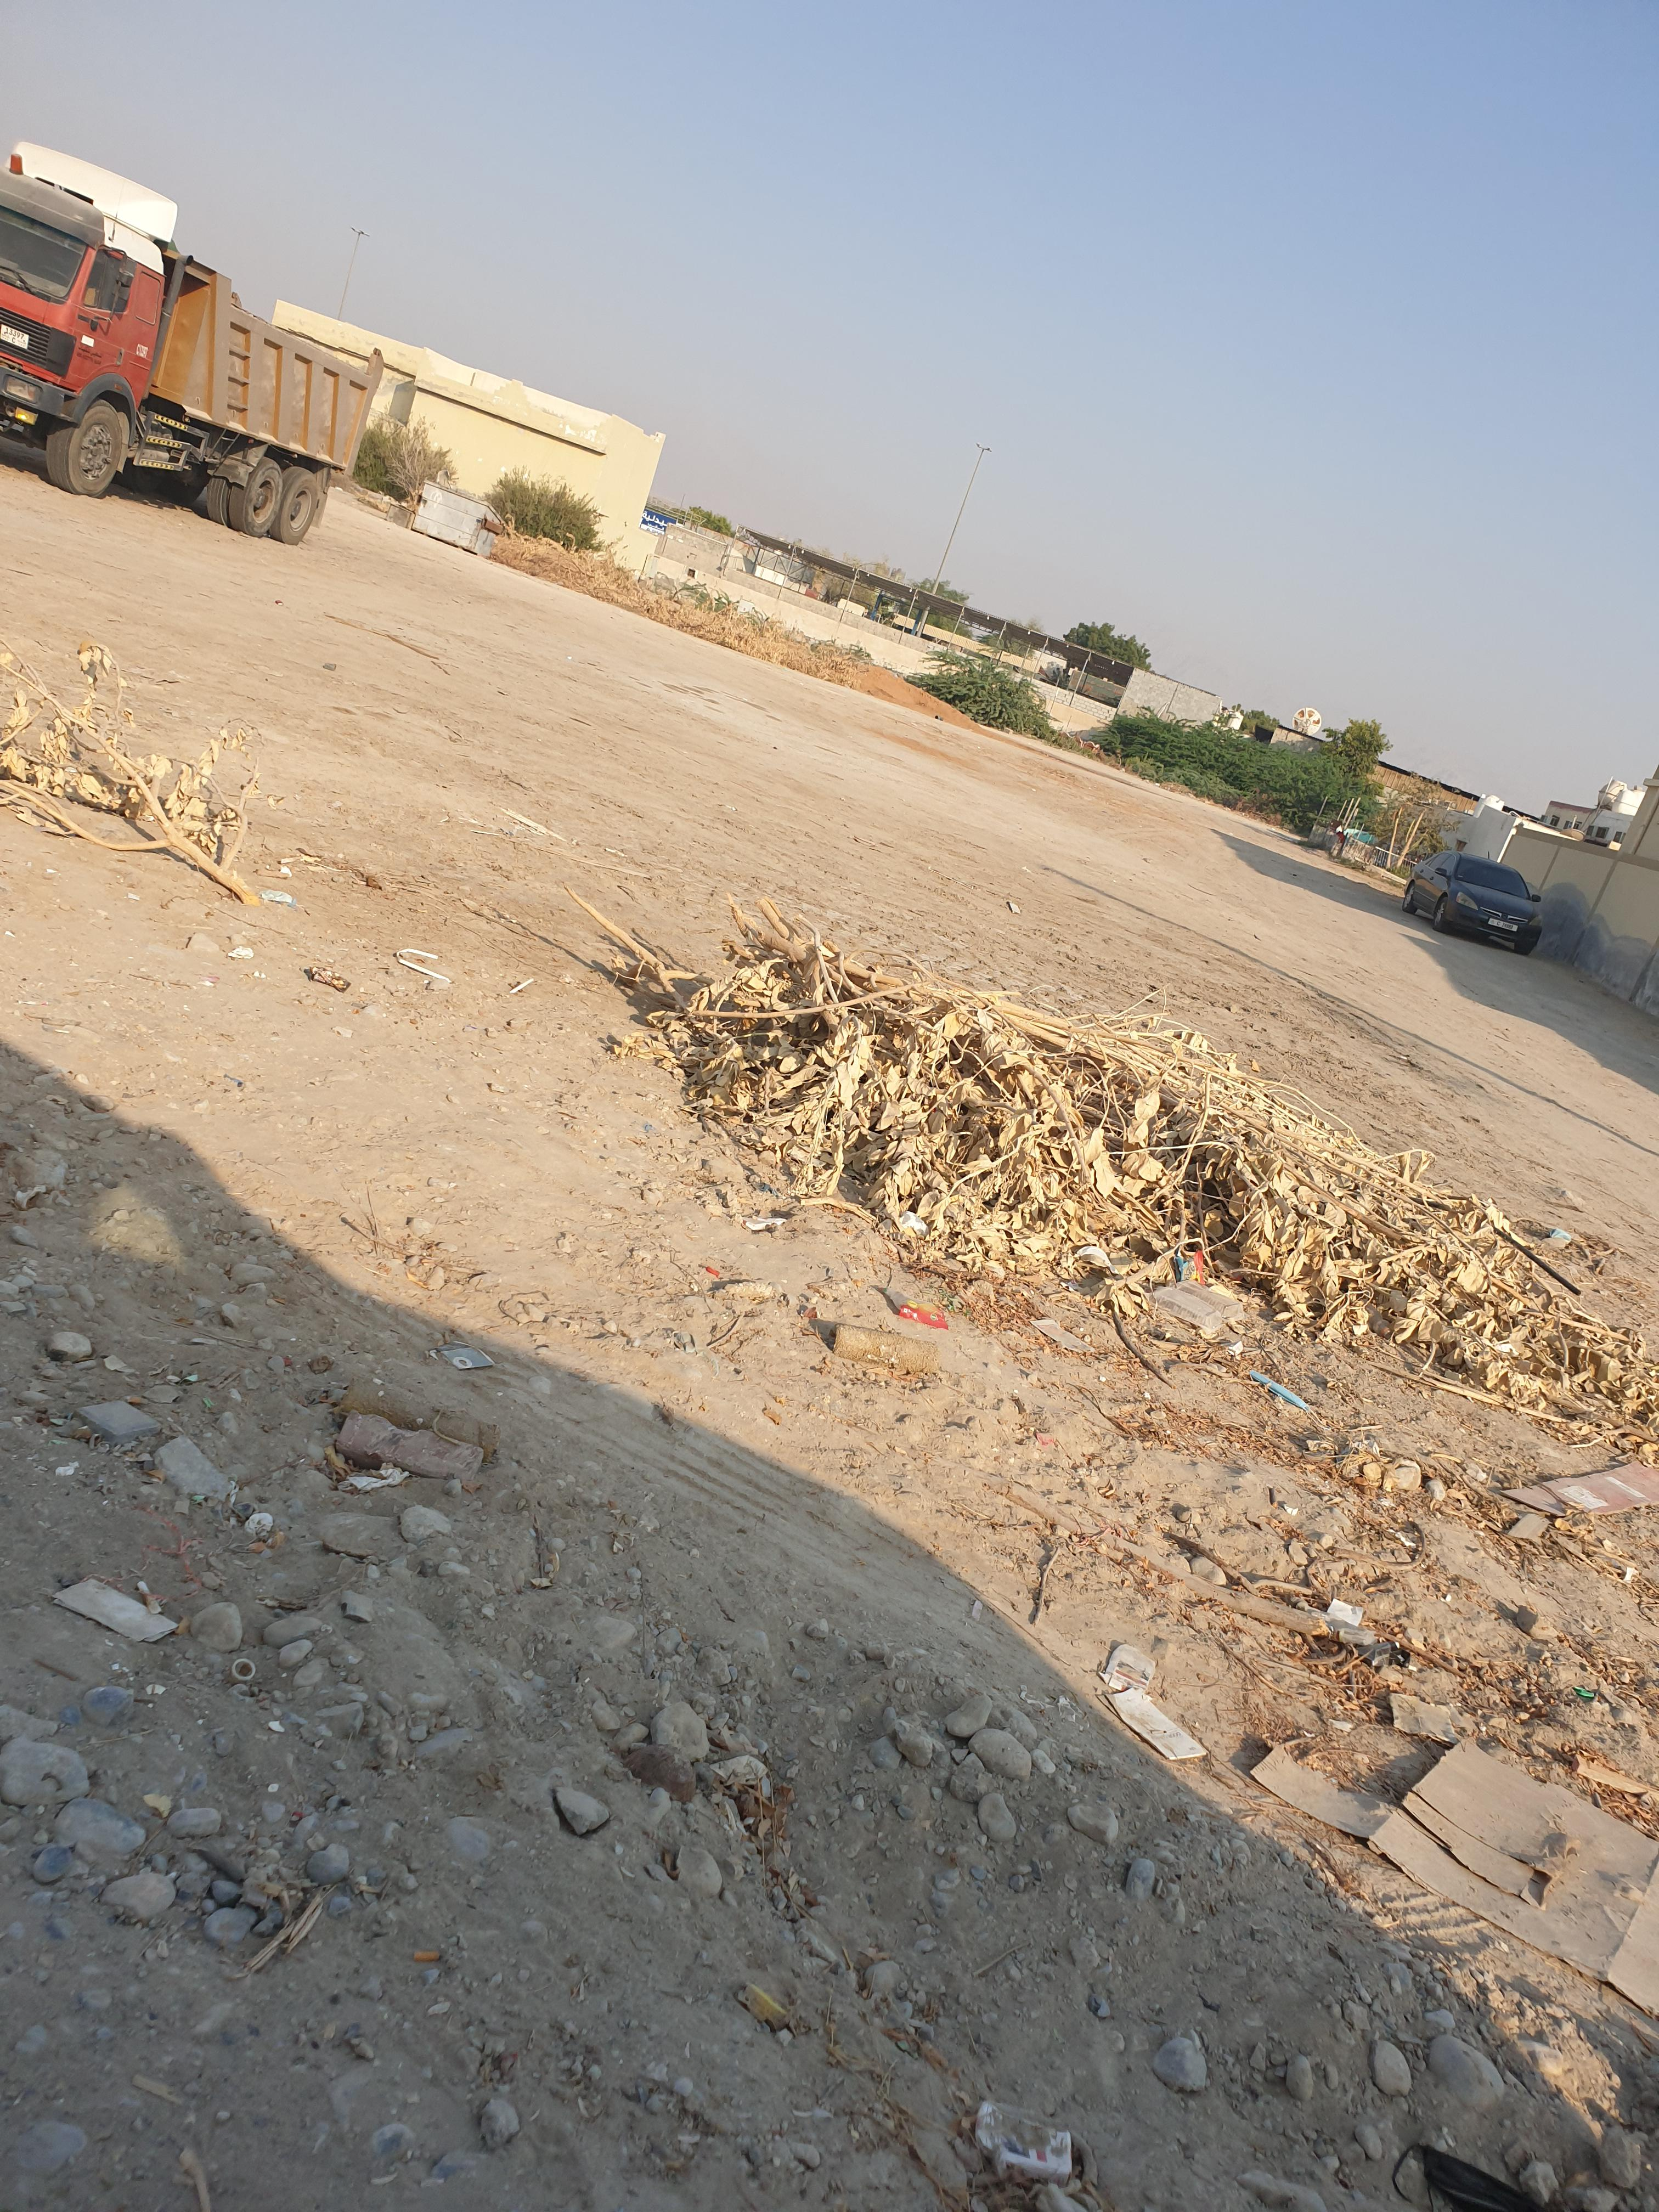fallen_trees: (610, 841, 1640, 1425), (460, 836, 1075, 1179), (59, 594, 336, 961), (568, 559, 819, 667), (716, 620, 910, 712)
uncollected_waste: (1286, 1672, 1652, 1979)
